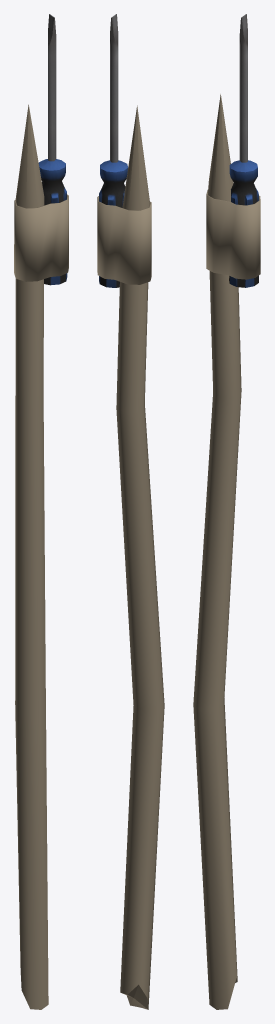
File: SpearScrewdriver.fbx
3 renders of one model, left to right at view 1: azimuth 30°, elevation 25°; view 2: azimuth 150°, elevation 25°; view 3: azimuth 330°, elevation 25°, orthographic.
Parts seen in each view (by area): view 1: TB Spear.015; view 2: TB Spear.015; view 3: TB Spear.015.
Boxes of the visible parts, x1=… form: TB Spear.015: x1=14, y1=14, x2=68, y2=1009; TB Spear.015: x1=97, y1=14, x2=164, y2=1009; TB Spear.015: x1=193, y1=14, x2=260, y2=1009.
Bounding box in the file's own units: 0.0484 × 0.8088 × 0.037.
